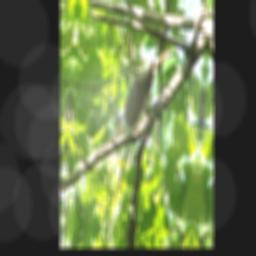Cuckoo: (113, 32, 172, 151)
